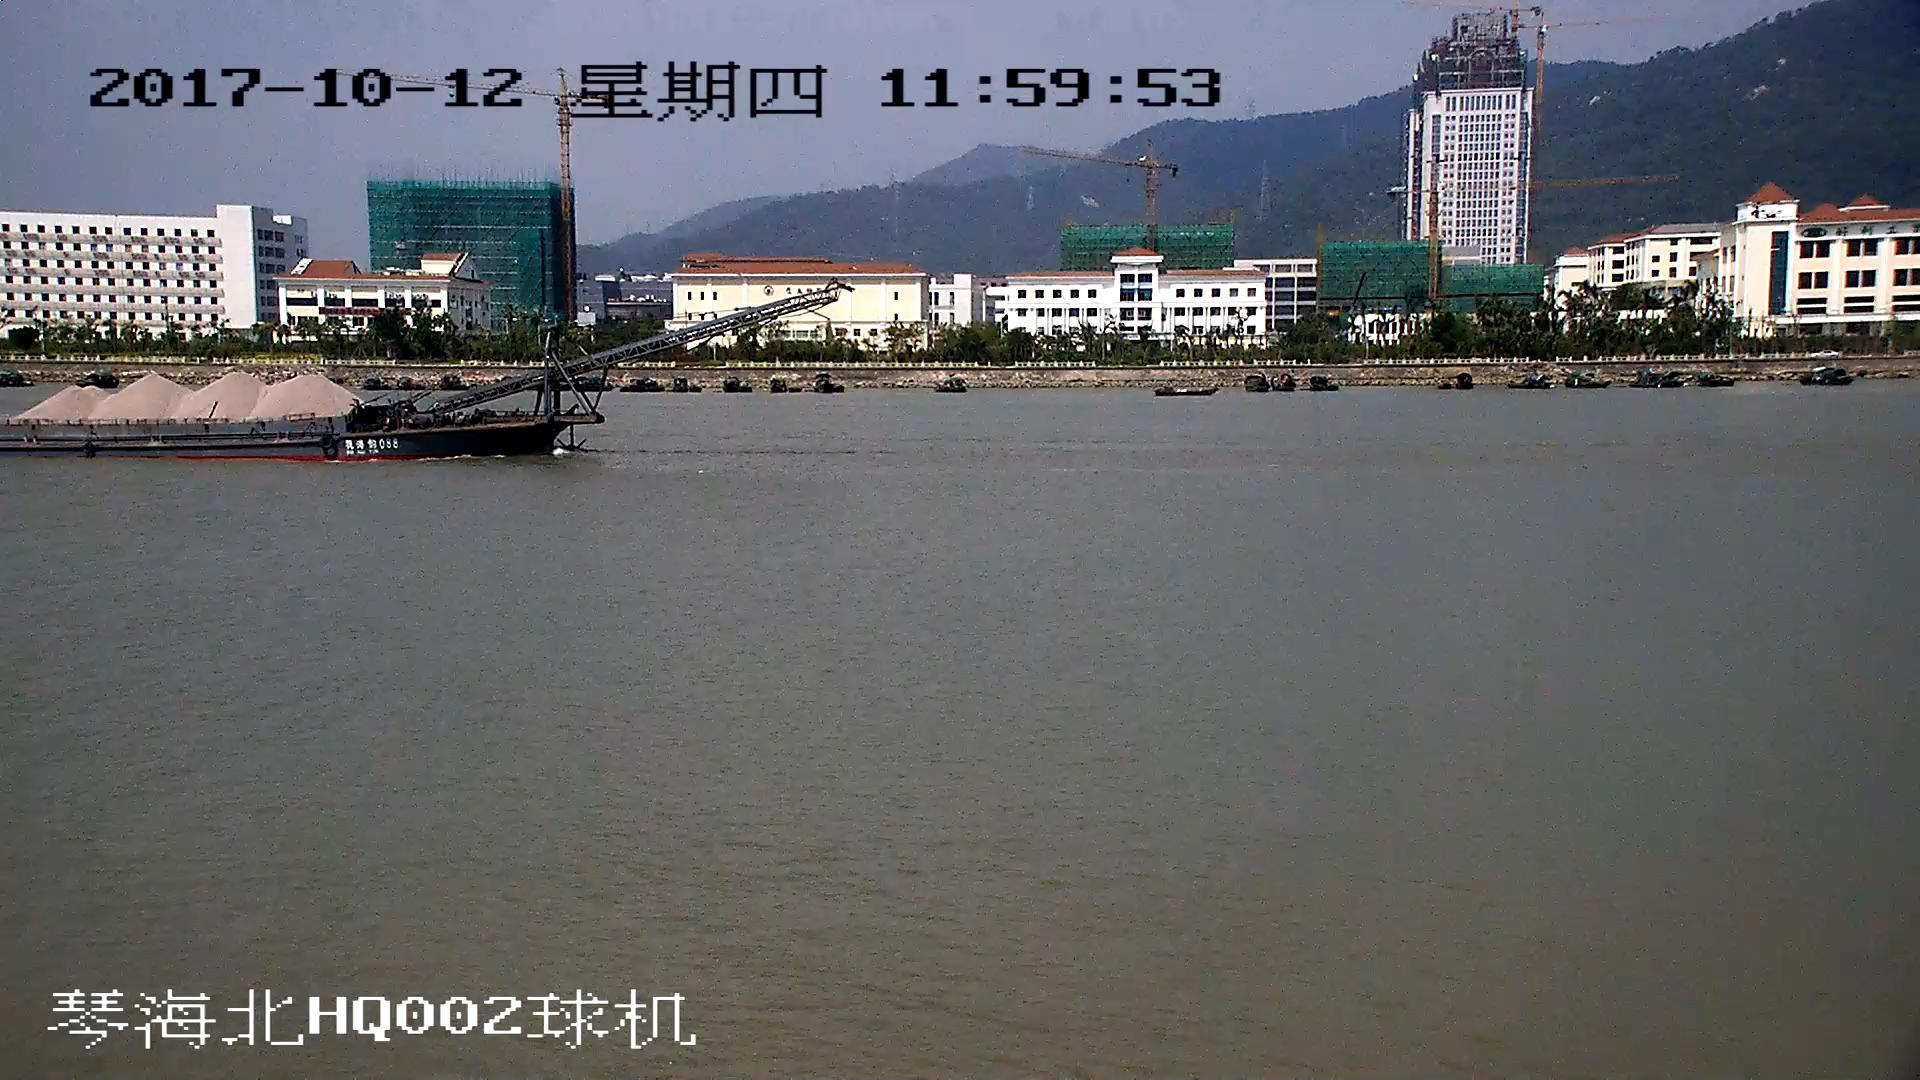Ship: (3, 294, 835, 462)
